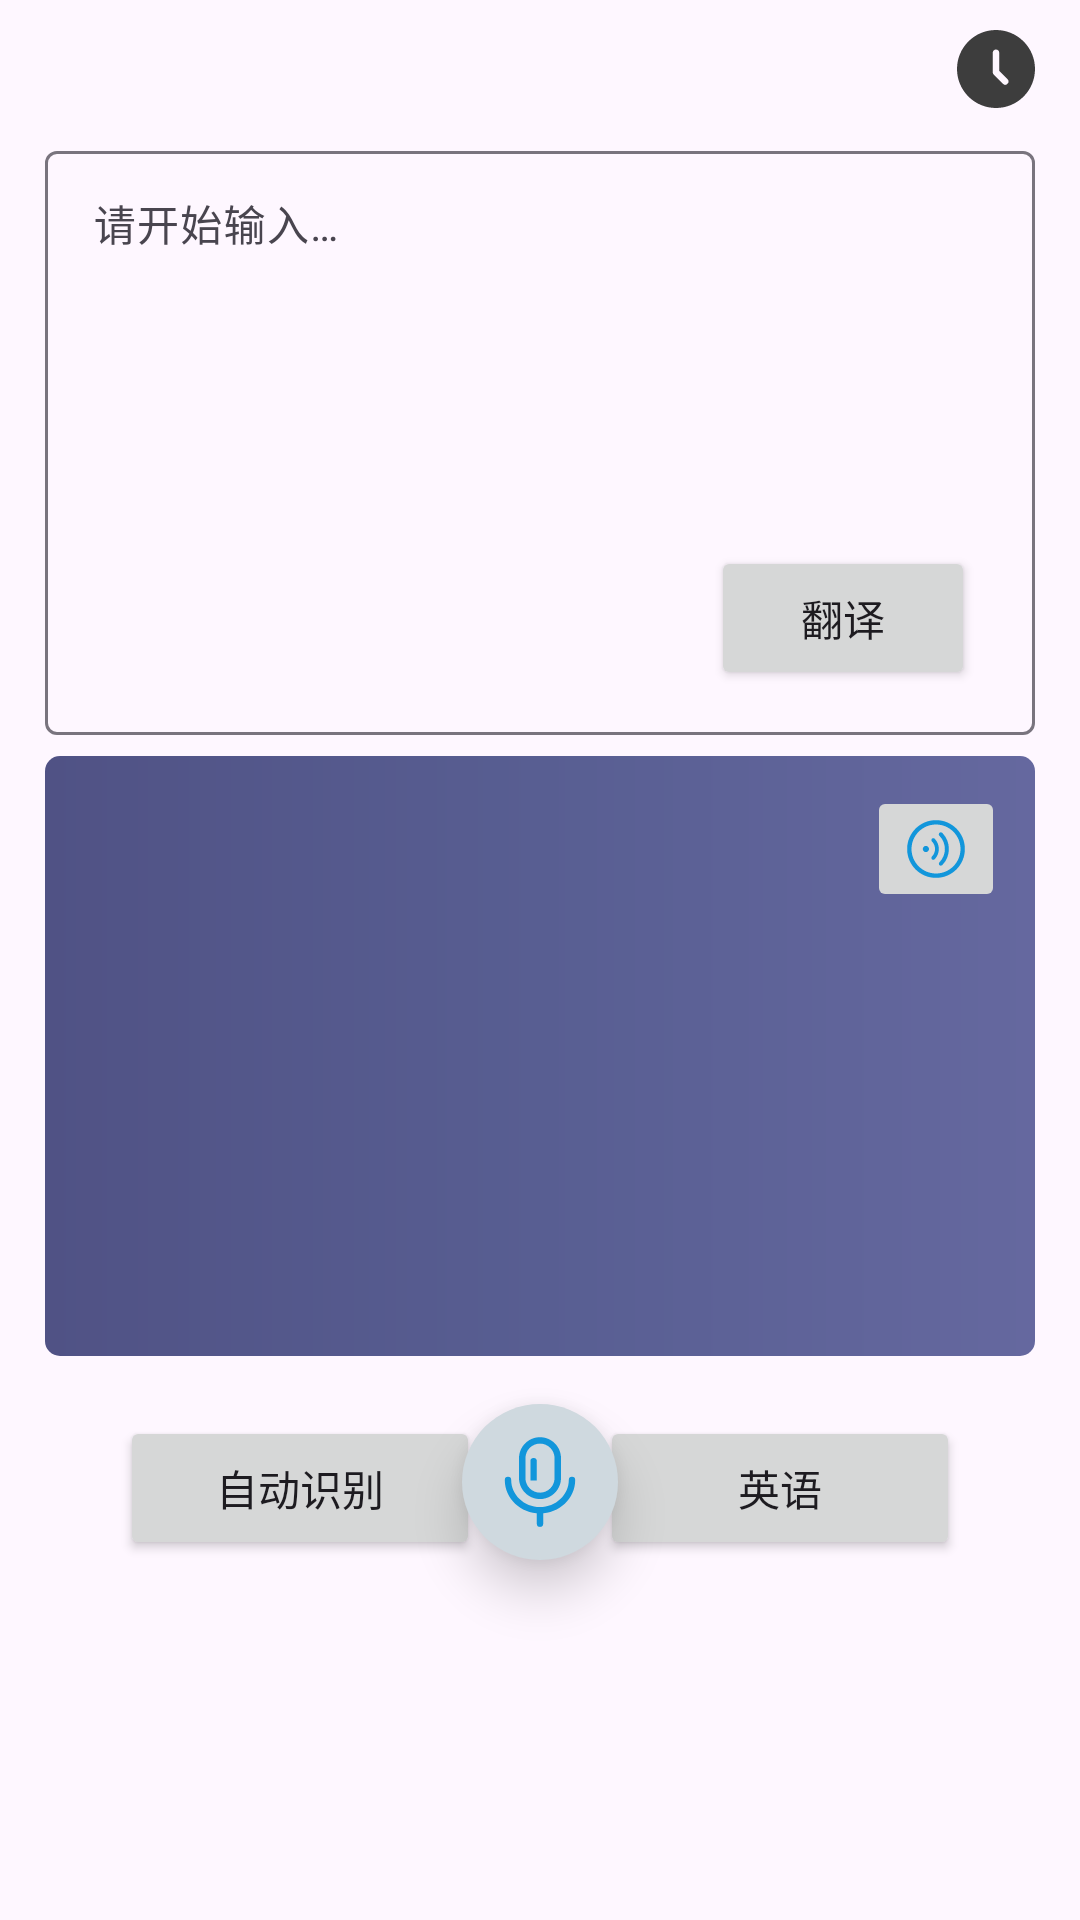

Named icons in this screenshot (1080px x 1920px) and their centers, [x,y]:
audio recorder: [540,1482]
historical record: [996,69]
voice: [936,849]
